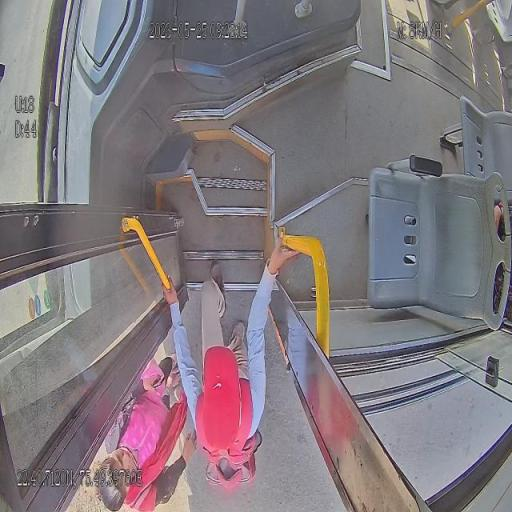persona: (161, 231, 300, 490), (94, 352, 198, 511)
